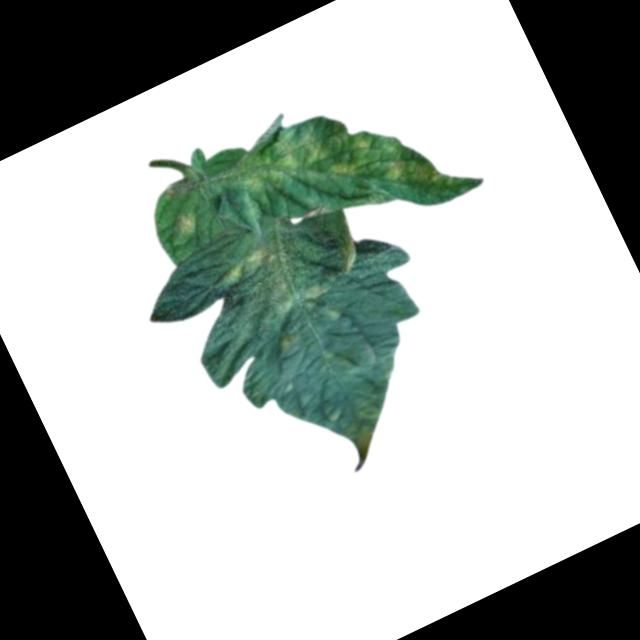Leaf_Mold: (194, 78, 445, 274), (211, 220, 345, 340), (167, 208, 205, 244)
